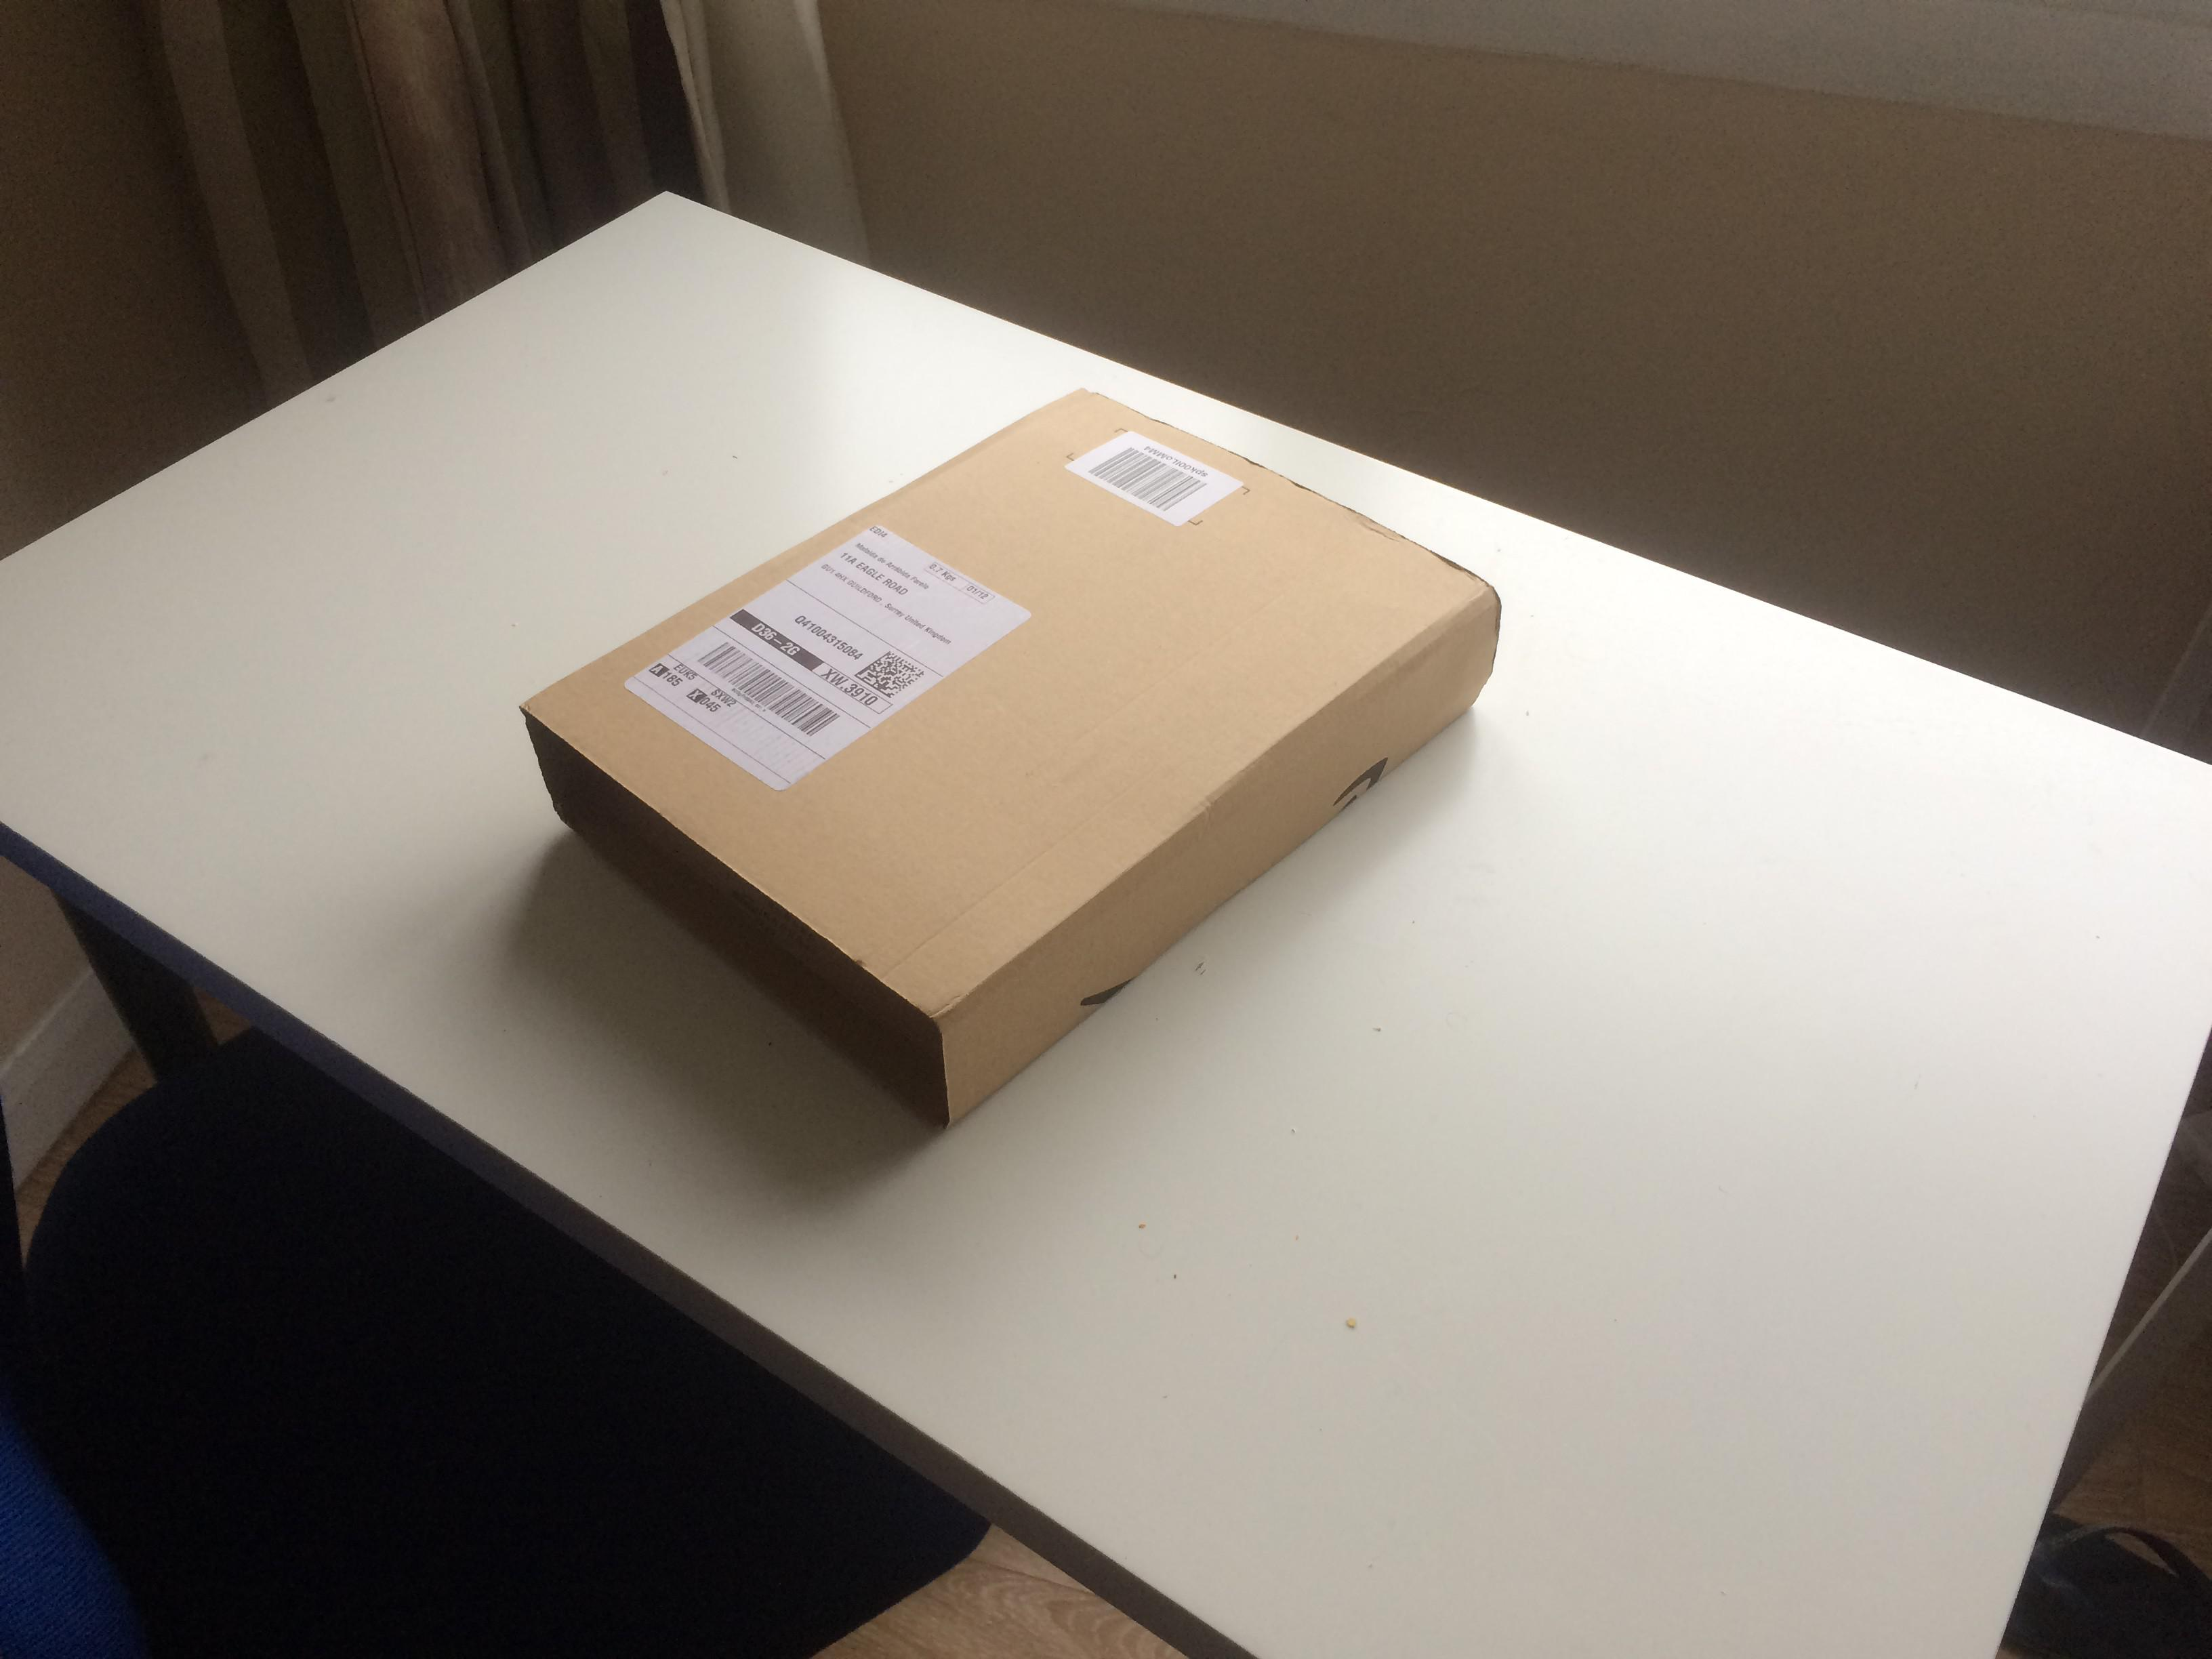Trash: (519, 387, 1505, 1126)
